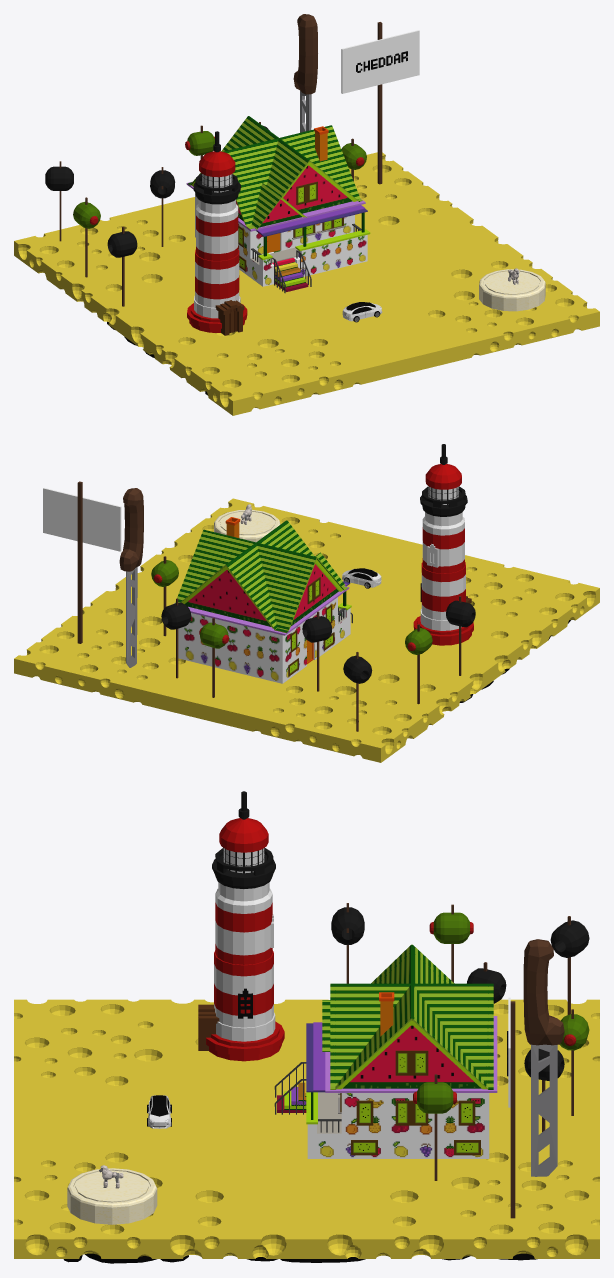
3 views of the same model, one above another, from view 1: azimuth 30°, elevation 25°; view 2: azimuth 150°, elevation 25°; view 3: azimuth 270°, elevation 25° (orthographic). The views are drawn at different scales.
Parts seen in each view (by area): view 1: Cube.022, Cube.1063, OBJRANDOM_LIGHTHOUSE, Cube.023, Cylinder.016, Cube.024, Sphere.017, Sphere.016, Sphere.020, Sphere.018, Sphere.022, VEHICLES_TESLA (+1 smaller); view 2: Cube.022, Cube.1063, OBJRANDOM_LIGHTHOUSE, Cube.023, Cube.024, Cylinder.016, Sphere.021, Sphere.020, Sphere.017, Sphere.016, Sphere.022, Sphere.018 (+2 smaller); view 3: Cube.022, Cube.1063, OBJRANDOM_LIGHTHOUSE, Cube.024, Cylinder.016, Cube.023, Sphere.019, Sphere.016, Sphere.018, Sphere.017, Curve.014, Sphere.022 (+3 smaller).
Boxes of the visible parts, <box> form: Cube.022: <box>14,152,599,415</box>; Cube.1063: <box>186,116,370,293</box>; OBJRANDOM_LIGHTHOUSE: <box>187,131,247,335</box>; Cube.023: <box>341,22,419,184</box>; Cylinder.016: <box>479,269,545,311</box>; Cube.024: <box>293,14,317,132</box>; Sphere.017: <box>107,226,137,306</box>; Sphere.016: <box>45,161,73,241</box>; Sphere.020: <box>150,167,175,246</box>; Sphere.018: <box>73,197,100,277</box>; Sphere.022: <box>185,125,214,158</box>; VEHICLES_TESLA: <box>342,302,382,322</box>; Cube.022: <box>14,498,599,762</box>; Cube.1063: <box>174,517,352,683</box>; OBJRANDOM_LIGHTHOUSE: <box>413,444,473,645</box>; Cube.023: <box>43,481,121,643</box>; Cube.024: <box>119,488,143,667</box>; Cylinder.016: <box>214,509,280,542</box>; Sphere.021: <box>161,598,191,678</box>; Sphere.020: <box>302,611,331,691</box>; Sphere.017: <box>446,596,475,675</box>; Sphere.016: <box>343,652,372,731</box>; Sphere.022: <box>199,618,229,697</box>; Sphere.018: <box>405,624,432,704</box>; Cube.022: <box>14,999,599,1258</box>; Cube.1063: <box>274,944,497,1158</box>; OBJRANDOM_LIGHTHOUSE: <box>198,791,284,1061</box>; Cube.024: <box>523,939,564,1176</box>; Cylinder.016: <box>67,1168,157,1224</box>; Cube.023: <box>507,997,515,1218</box>; Sphere.019: <box>413,1074,456,1180</box>; Sphere.016: <box>550,916,589,1014</box>; Sphere.018: <box>429,904,473,982</box>; Sphere.017: <box>331,903,364,983</box>; Curve.014: <box>63,1253,537,1263</box>; Sphere.022: <box>560,1009,589,1115</box>.
Size of the model in its own units: 3917 by 2104 by 4000.
35 materials, 5 textured.
